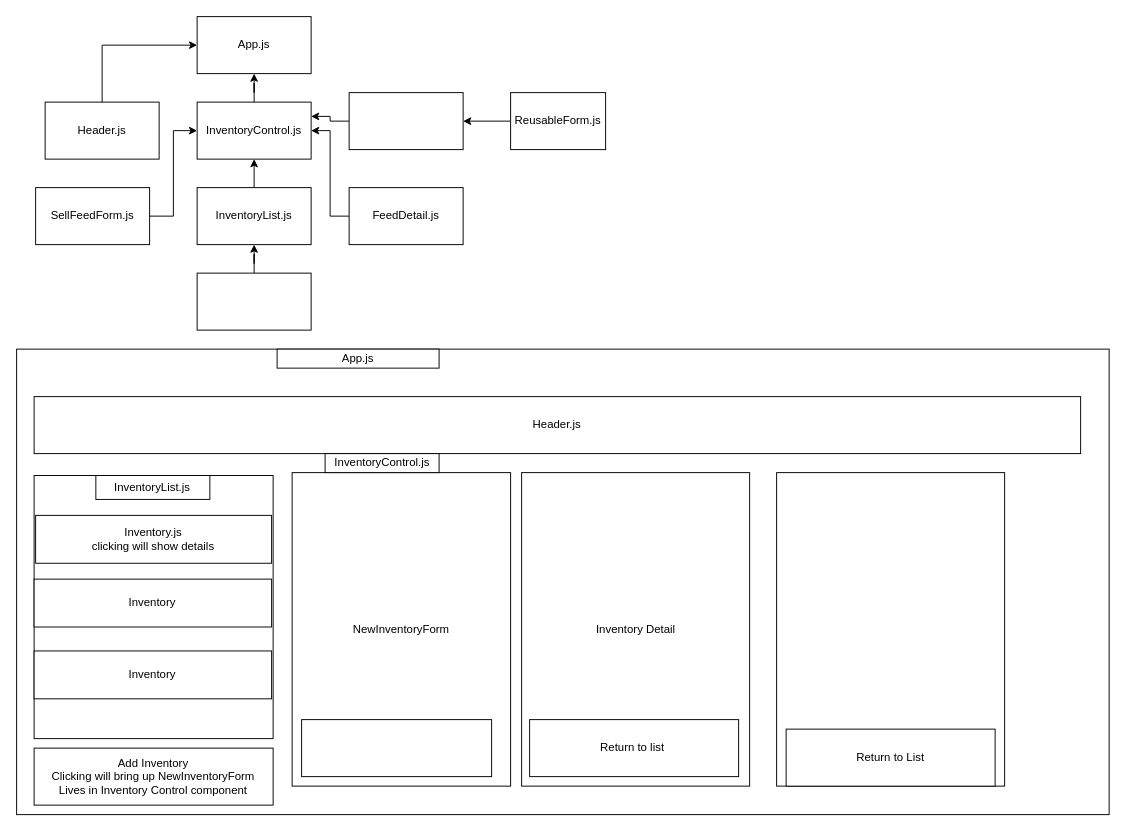
The diagram is 1126 pixels wide and 831 high, and some of its shapes have lost their labels. The shapes that lost their labels are listed below. From the top down, each one's centre as x and y in pixels, then its label:
At point 405,121: "NewFeedForm.js".
At point 253,301: "Feed.js".
At point 396,748: "Submit this button will add inventory and then show inventory list component".
